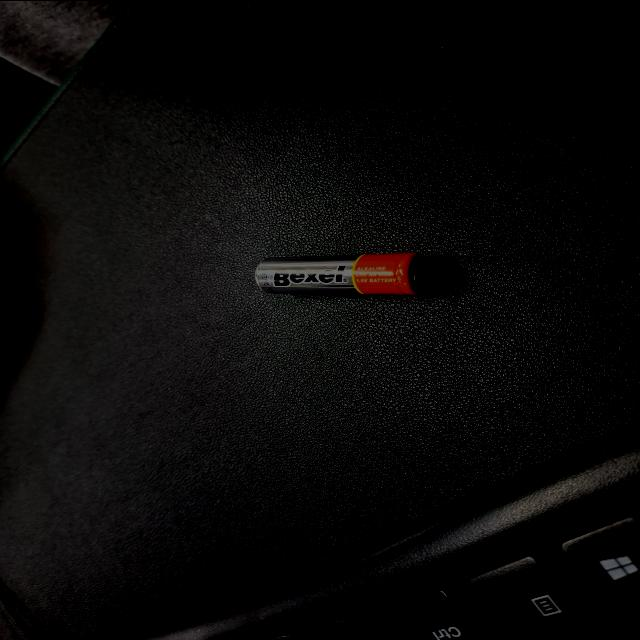AA: (334, 316, 392, 448)
